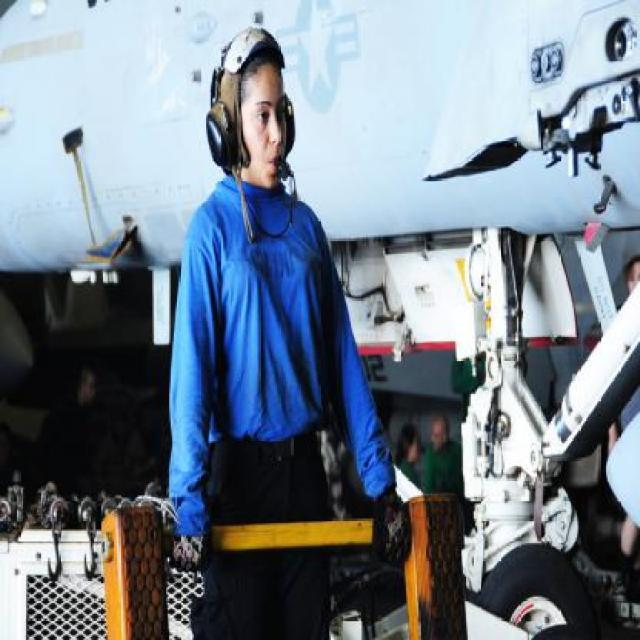earphone: (192, 25, 270, 160)
